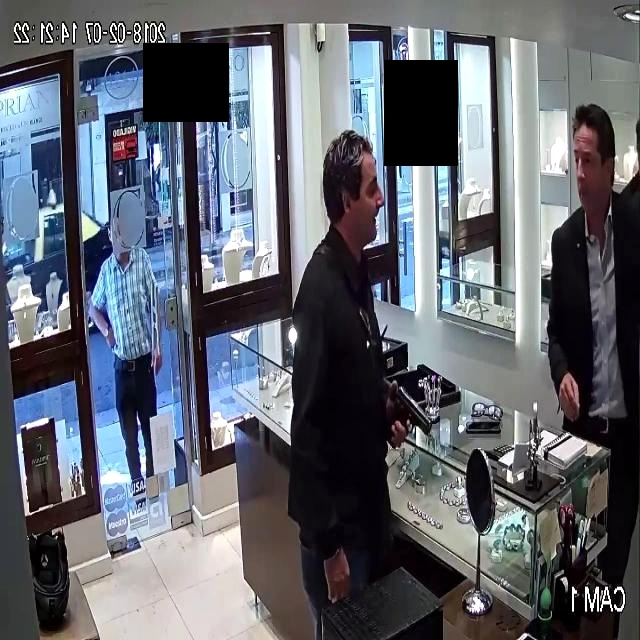gun: (384, 361, 443, 466)
